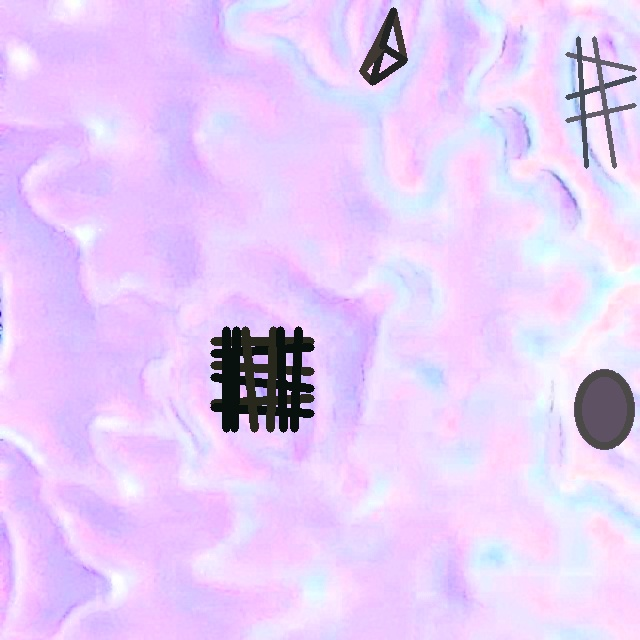open: (210, 326, 314, 431), (565, 36, 636, 168), (575, 369, 634, 449), (359, 8, 406, 84)
